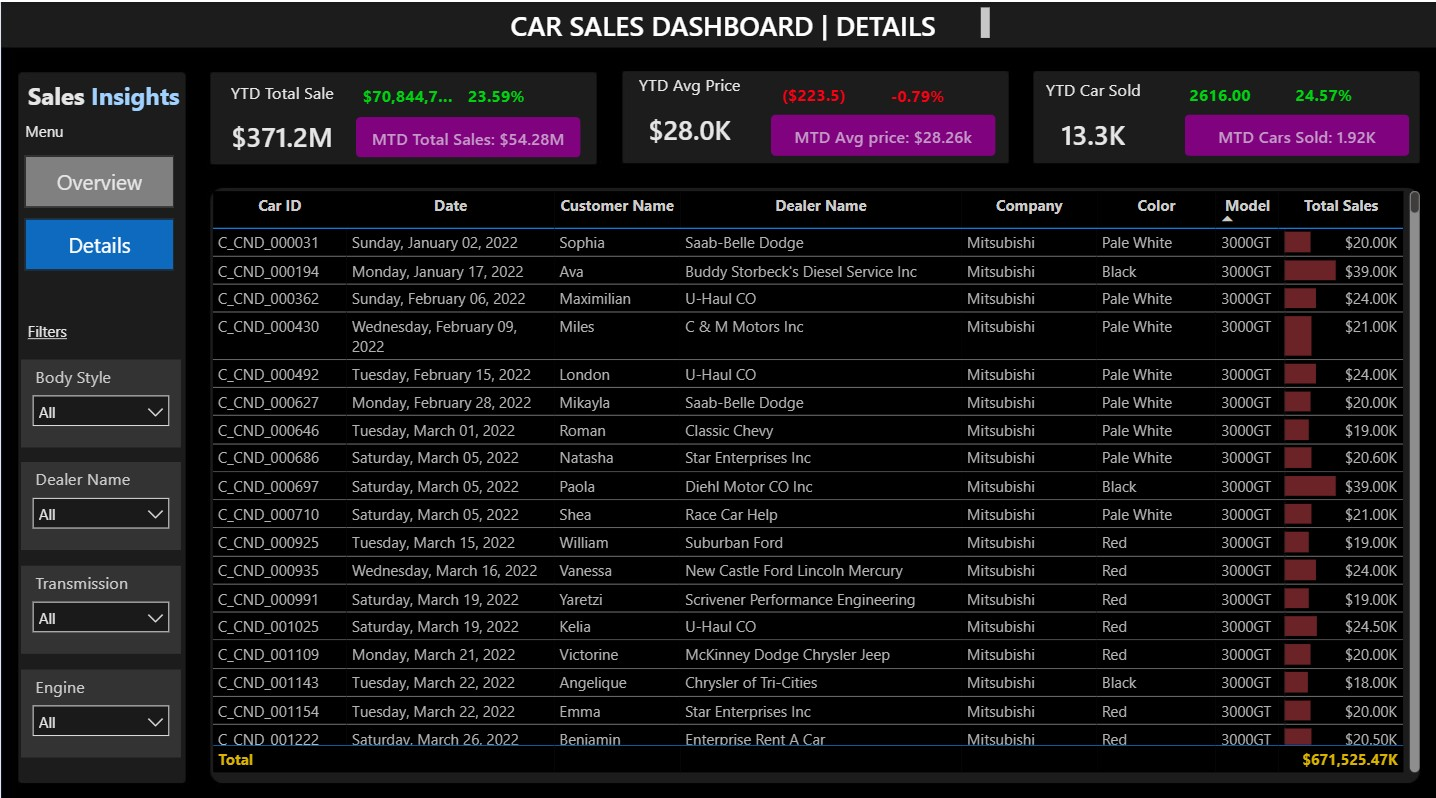

This screenshot's page, from the dashboard's own definition file:
{"tool":"powerbi","page":{"name":"Details","canvas":[1280,720],"ordinal":1},"visuals":[{"type":"cardVisual","title":"YTD Total Sale","fields":{"Data":["car_data.YTD Total Sale"]},"box":[195.1,69.9,111.7,77.3],"z":0},{"type":"cardVisual","title":"Sales Difference","fields":{"Data":["car_data.Sales Difference"]},"box":[316.8,64.5,92,36.8],"z":1000},{"type":"cardVisual","title":"Sales Difference","fields":{"Data":["car_data.YoY Sales Growth"]},"box":[395.3,64.5,92,36.8],"z":2000},{"type":"cardVisual","fields":{"Data":["car_data.MTD KPI"]},"box":[316.2,102.5,200,36.2],"z":3000},{"type":"cardVisual","title":"YTD Avg Price","fields":{"Data":["car_data.YTD Avg Price"]},"box":[557.5,63.8,111.2,77.5],"z":4000},{"type":"cardVisual","title":"Sales Difference","fields":{"Data":["car_data.Avg Price Difference"]},"box":[677.5,63.8,92.5,36.2],"z":5000},{"type":"cardVisual","title":"Sales Difference","fields":{"Data":["car_data.YoY Avg Price Growth"]},"box":[770,65,92.5,36.2],"z":6000},{"type":"cardVisual","fields":{"Data":["car_data.MTD Avg Price KPI"]},"box":[686.2,100,200,37.5],"z":7000},{"type":"cardVisual","title":"YTD Car Sold","fields":{"Data":["car_data.YTD Car Sold"]},"box":[917.5,67.5,111.2,77.5],"z":8000},{"type":"cardVisual","title":"Sales Difference","fields":{"Data":["car_data.Car Sold Diff"]},"box":[1040,63.8,92.5,36.2],"z":9000},{"type":"cardVisual","title":"Sales Difference","fields":{"Data":["car_data.YoY Car Sold Growth"]},"box":[1132.5,63.8,92.5,36.2],"z":10000},{"type":"cardVisual","fields":{"Data":["car_data.MTD Cars Sold KPI"]},"box":[1053.8,100,200,37.5],"z":11000},{"type":"textbox","box":[408.6,0,477.3,39.3],"z":12000},{"type":"slicer","fields":{"Values":["car_data.Body Style"]},"box":[17.9,318,142.3,78.5],"z":13000},{"type":"slicer","fields":{"Values":["car_data.Dealer_Name"]},"box":[17.9,410.1,142.3,78.5],"z":14000},{"type":"slicer","fields":{"Values":["car_data.Transmission"]},"box":[17.9,502.1,142.3,78.5],"z":15000},{"type":"slicer","fields":{"Values":["car_data.Engine"]},"box":[17.9,594.1,142.3,78.5],"z":16000},{"type":"textbox","box":[18.4,279.8,101.8,29.4],"z":17000},{"type":"tableEx","fields":{"Values":["car_data.Car_id","car_data.Date","car_data.Customer Name","car_data.Dealer_Name","car_data.Company","car_data.Color","car_data.Model","car_data.Total Sales"]},"box":[182.8,163.2,1085.9,527.6],"z":18000},{"type":"textbox","box":[17.2,101.8,101.8,30.7],"z":19000},{"type":"pageNavigator","box":[20.9,137.4,133.7,103.1],"z":20000},{"type":"textbox","box":[18.4,63.8,150.9,42.9],"z":21000}]}

Visuals, with their boxes in screenshot pixels (x1, y1, x2, y2), scaled from the page's 1280x720 canvas onto the 1436x798 screenshot:
"YTD Total Sale" cardVisual: <region>219, 77, 344, 163</region>
"Sales Difference" cardVisual: <region>355, 71, 459, 112</region>
"Sales Difference" cardVisual: <region>443, 71, 547, 112</region>
cardVisual - car_data.MTD KPI: <region>355, 114, 579, 154</region>
"YTD Avg Price" cardVisual: <region>625, 71, 750, 157</region>
"Sales Difference" cardVisual: <region>760, 71, 864, 111</region>
"Sales Difference" cardVisual: <region>864, 72, 968, 112</region>
cardVisual - car_data.MTD Avg Price KPI: <region>770, 111, 994, 152</region>
"YTD Car Sold" cardVisual: <region>1029, 75, 1154, 161</region>
"Sales Difference" cardVisual: <region>1167, 71, 1271, 111</region>
"Sales Difference" cardVisual: <region>1271, 71, 1374, 111</region>
cardVisual - car_data.MTD Cars Sold KPI: <region>1182, 111, 1407, 152</region>
textbox: <region>458, 0, 994, 44</region>
slicer - car_data.Body Style: <region>20, 352, 180, 439</region>
slicer - car_data.Dealer_Name: <region>20, 455, 180, 542</region>
slicer - car_data.Transmission: <region>20, 556, 180, 643</region>
slicer - car_data.Engine: <region>20, 658, 180, 745</region>
textbox: <region>21, 310, 135, 343</region>
tableEx - car_data.Car_id x car_data.Date: <region>205, 181, 1423, 766</region>
textbox: <region>19, 113, 134, 147</region>
pageNavigator: <region>23, 152, 173, 267</region>
textbox: <region>21, 71, 190, 118</region>
